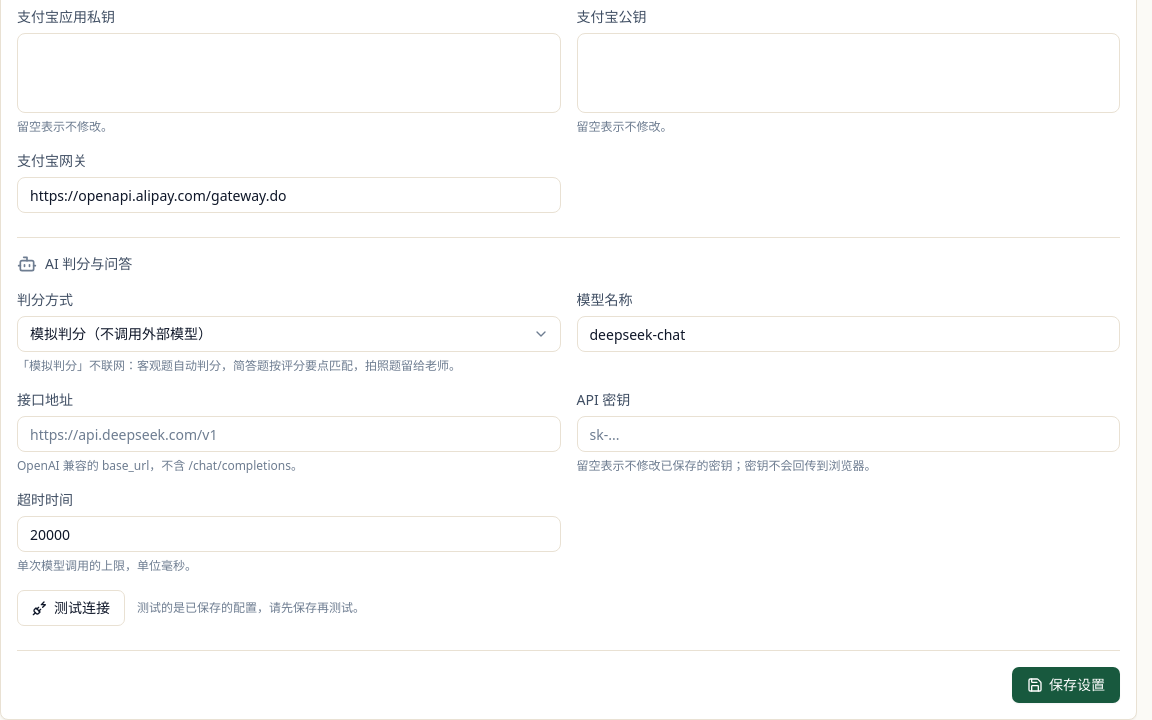
Test case: AdminSettings › the AI provider section › reports a working mock as a pass rather than as a missing model
(page scrolled)
Click the button "测试连接" at (71, 608), box [17, 590, 125, 626]
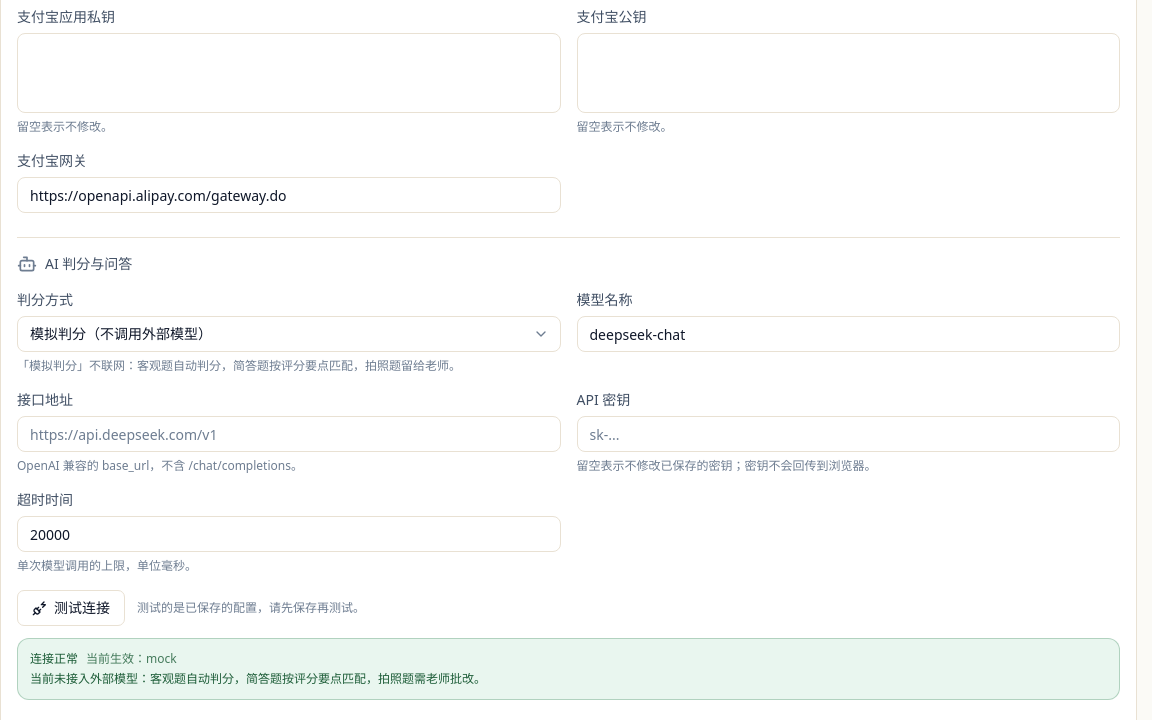
Result: the text "连接正常" is shown at [30, 650, 78, 667]
